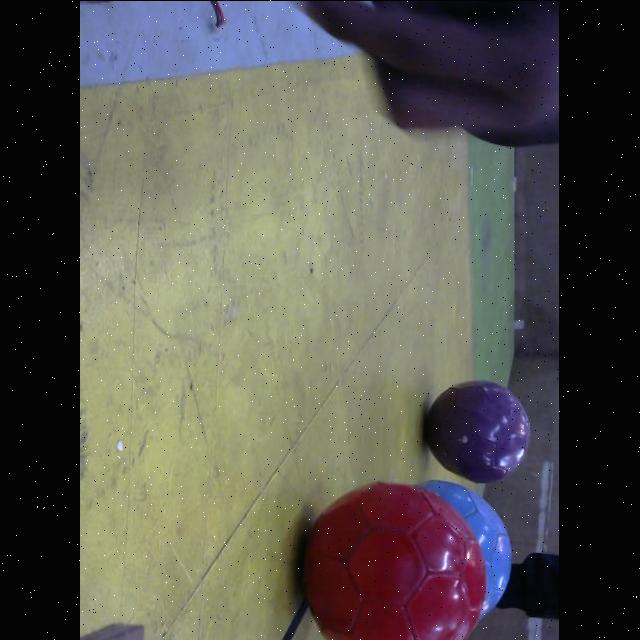B: (378, 477, 512, 629)
P: (427, 378, 533, 484)
R: (302, 480, 488, 640)
